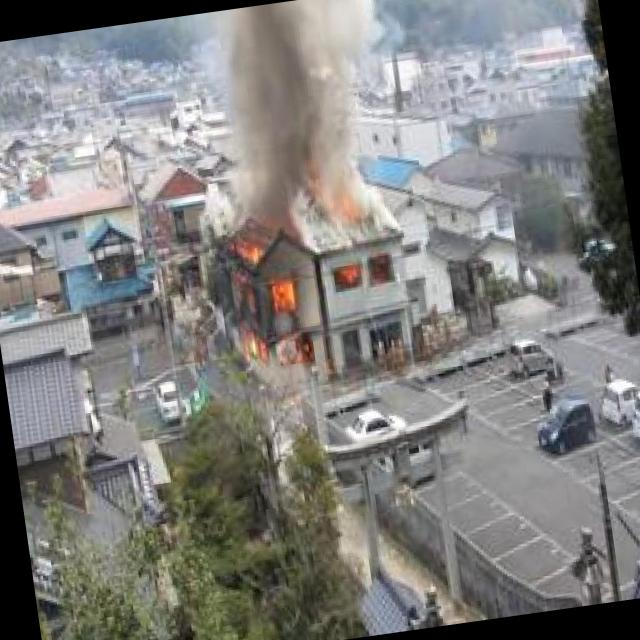Fire: (220, 224, 322, 378), (330, 266, 364, 296)
Smoke: (211, 0, 403, 244)
